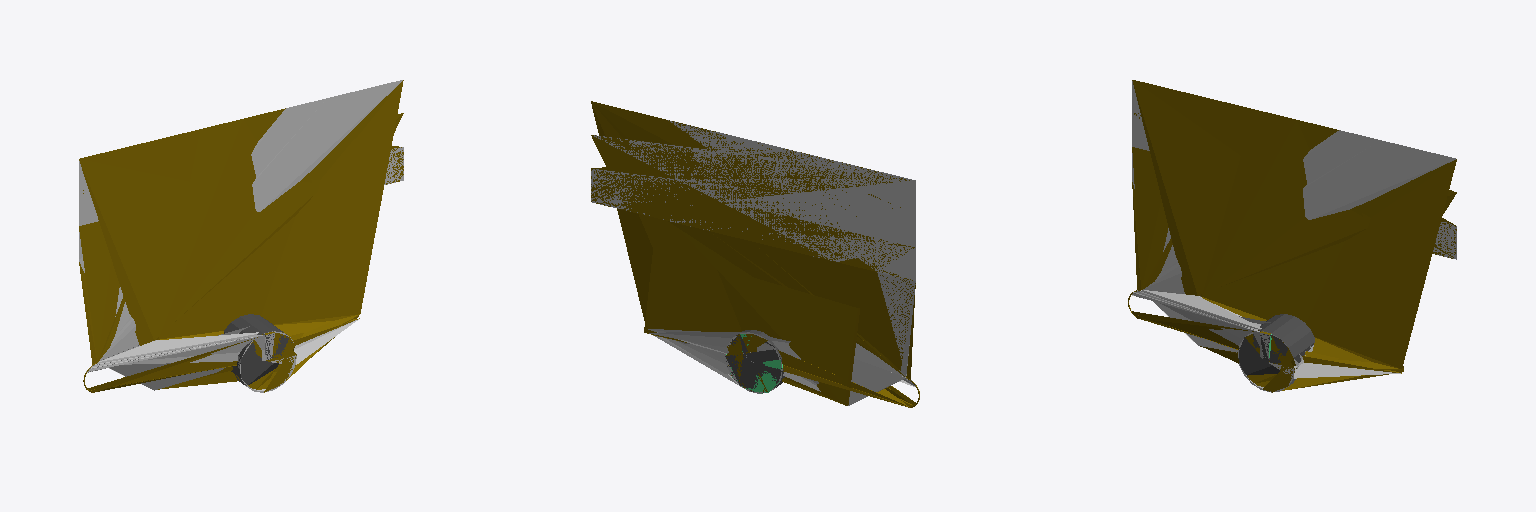
The model's file is res.obj.
The picture shows the model from 3 angles: view 1: azimuth 30°, elevation 25°; view 2: azimuth 150°, elevation 25°; view 3: azimuth 330°, elevation 25°; orthographic projection.
Visible parts, largest first — view 1: Torus002, TextPlus001, Cylinder001; view 2: Torus002, TextPlus001, Box001; view 3: Torus002, TextPlus001, Cylinder001.
Boxes of the visible parts, box(x1,y1,x2,y2) form: Torus002: box(79, 80, 403, 392); TextPlus001: box(79, 80, 403, 392); Cylinder001: box(224, 314, 291, 385); Torus002: box(591, 101, 919, 407); TextPlus001: box(591, 120, 915, 405); Box001: box(725, 334, 782, 392); Torus002: box(1128, 80, 1456, 392); TextPlus001: box(1132, 81, 1456, 392); Cylinder001: box(1238, 314, 1314, 375).
Bounding box in the file's own units: 10.1 × 7.48 × 1.58.